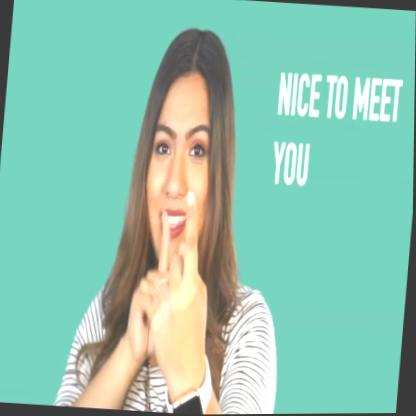NiceToMeetYou: (115, 186, 219, 382)
